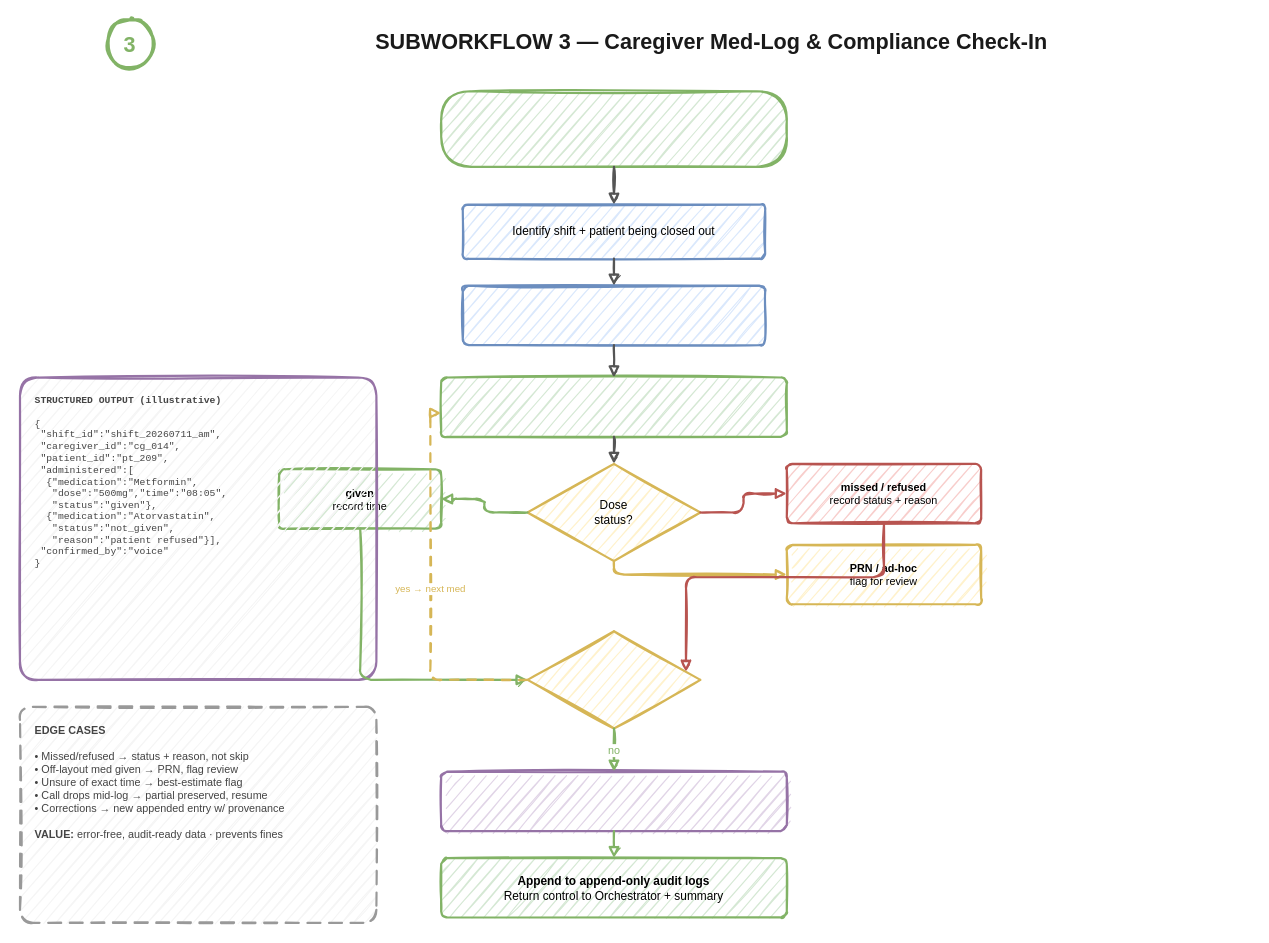
Image size: 1269x943. Some labels were removed from this diagram. The shapes that lost their labels are listed below. From the top down, each one's centre as x and y in pixels, then its label:
(x=613, y=128): TRIGGER Caregiver calls in to close out shift (Orchestrator routes to SW3)
(x=613, y=315): Load patient's active daily med layout (Task Checklists)
(x=613, y=406): For each med in the layout — strict questionnaire confirm drug · dose · time
(x=613, y=679): More meds in layout?
(x=613, y=801): Translate confirmations → structured JSON (read-back verification per med)
